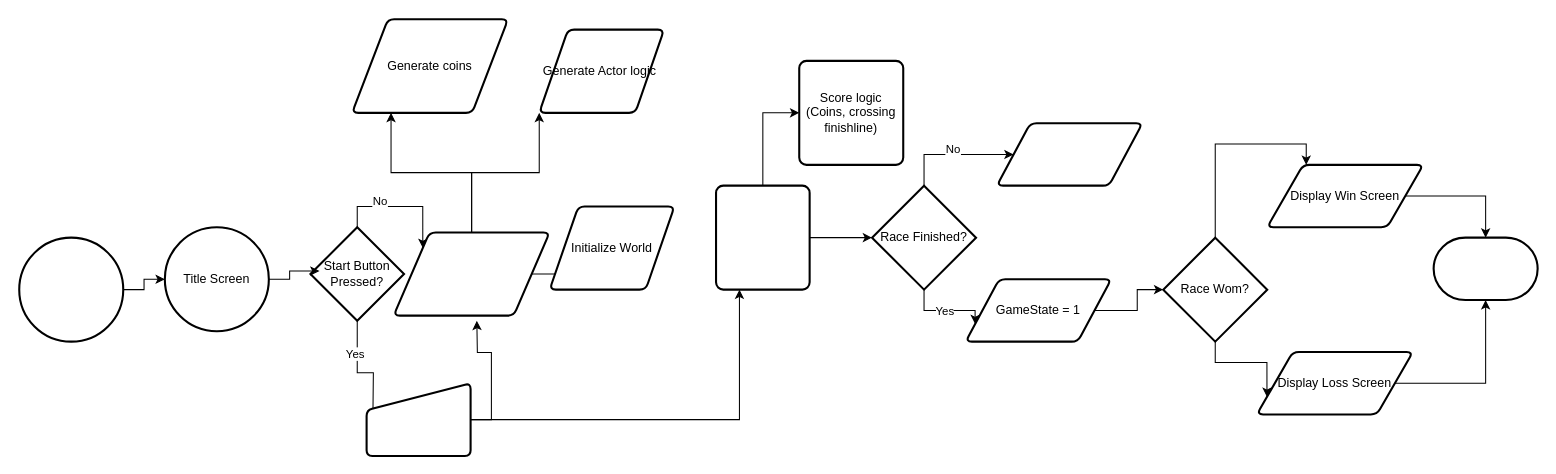
Image size: 1556x474. Some labels were removed from this diagram. The shapes that lost their labels are listed below. From the top down, each one's centre as x and y in pixels, then its label:
the point at 1069,154: GameState = 0
the point at 762,237: Begin Race
the point at 471,273: Create different Racer objects
the point at 1485,268: Terminate Program
the point at 71,289: Start
the point at 418,419: Player Control (WASD)
